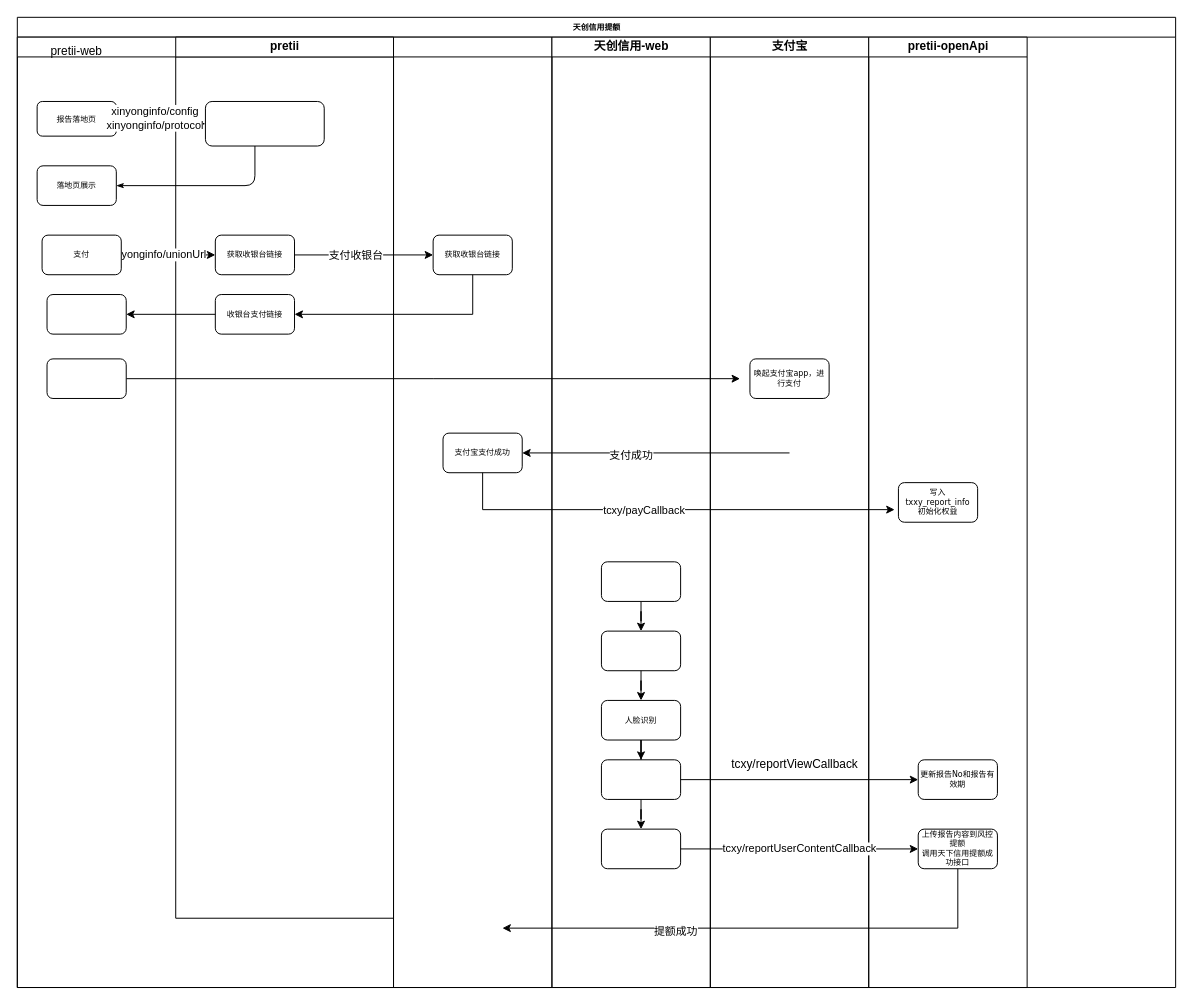
This 1193x1005 diagram has some shape labels left out. Here are the shapes that lost their labels. From the top down, the box of each, then its label:
(204, 100, 324, 146): 返回信用报告的页面配置信息 协议连接
(46, 294, 126, 334): 支付链接
(46, 358, 126, 398): 请求支付宝链接
(393, 36, 552, 988): 天创信用-服务端
(600, 561, 681, 601): 验证手机号
(600, 630, 681, 671): 验证身份证号
(600, 759, 681, 799): 查看报告内容
(600, 828, 681, 869): 上传报告
